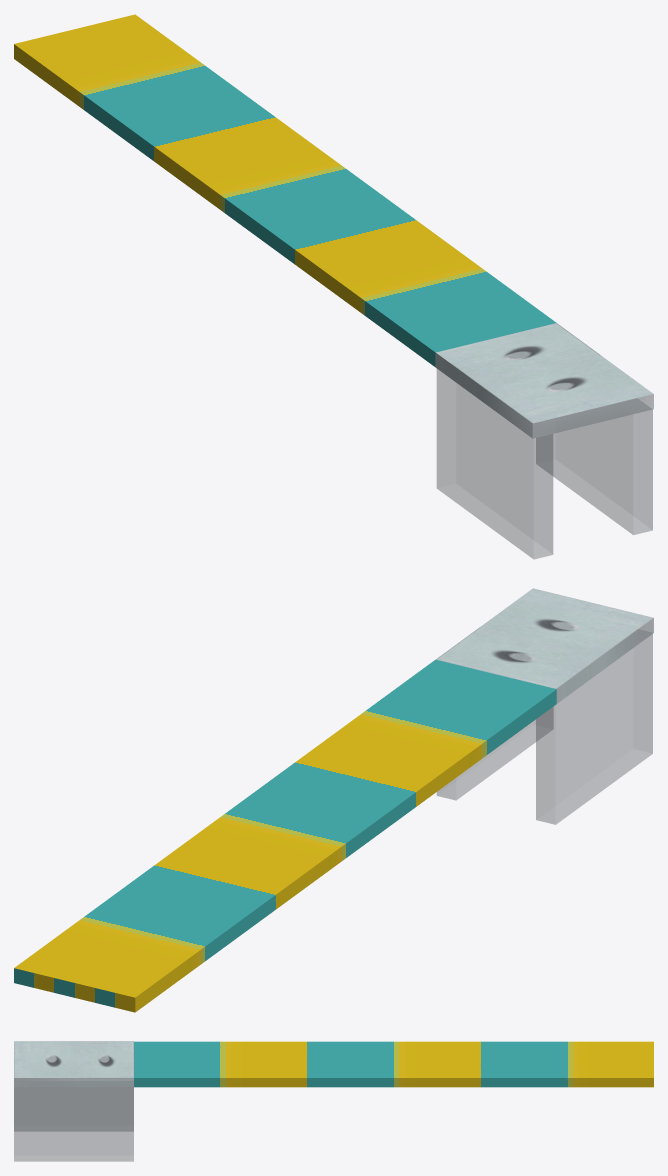
The model's file is jd001-geode.glb.
3 views of the same model, one above another, from view 1: azimuth 30°, elevation 25°; view 2: azimuth 150°, elevation 25°; view 3: azimuth 270°, elevation 25° (orthographic). The views are drawn at different scales.
Parts seen in each view (by area): view 1: Node; view 2: Node; view 3: Node.
Part boxes in pixels (box(x1,y1,x2,y2)): Node: box(14, 14, 653, 559); Node: box(14, 588, 653, 1012); Node: box(14, 1041, 653, 1161).
Bounding box in the file's own units: 0.0903 × 0.0968 × 0.6691.
Materials: 2 (2 with a texture image).
